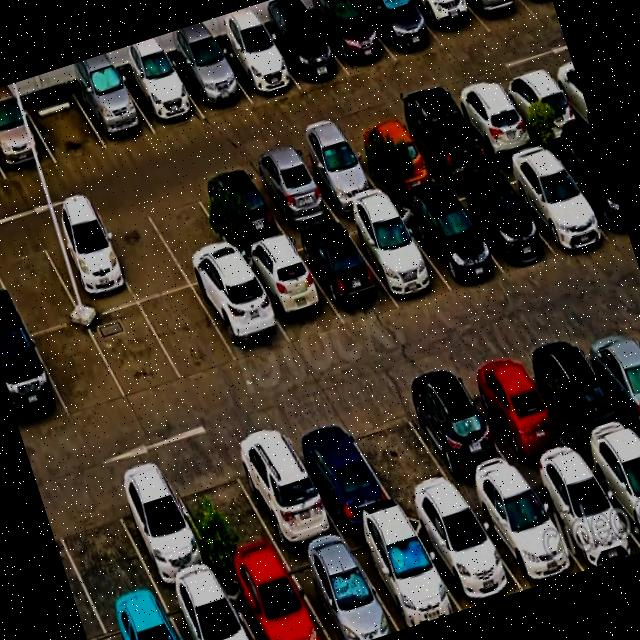empty: (164, 449, 283, 576), (45, 483, 158, 616), (339, 393, 462, 513), (142, 185, 242, 286), (94, 204, 190, 303), (86, 303, 183, 400), (140, 287, 238, 381), (32, 321, 126, 418), (0, 236, 82, 335), (24, 90, 107, 164)
occupied: (395, 370, 523, 498), (224, 424, 343, 555), (456, 351, 579, 477), (104, 465, 220, 594), (282, 411, 400, 535), (524, 331, 640, 455), (346, 518, 461, 631), (467, 479, 584, 590), (525, 460, 640, 570), (407, 501, 523, 610), (282, 540, 399, 640), (497, 151, 610, 254), (240, 240, 344, 346), (394, 192, 505, 291), (444, 174, 554, 273), (292, 223, 398, 325), (343, 208, 452, 305), (38, 219, 138, 319), (221, 558, 329, 640), (194, 272, 291, 362), (548, 136, 629, 240), (395, 101, 494, 185), (193, 168, 287, 254), (573, 317, 640, 434), (246, 152, 338, 234), (293, 137, 386, 216), (345, 119, 439, 197), (0, 333, 70, 435), (450, 83, 541, 161), (498, 68, 587, 144), (310, 0, 396, 76), (263, 16, 349, 89), (72, 76, 156, 149), (119, 63, 205, 134), (583, 437, 640, 542), (216, 35, 300, 103), (162, 578, 254, 640), (172, 49, 251, 118), (356, 0, 444, 61), (0, 105, 56, 180), (408, 0, 491, 49), (100, 597, 182, 640), (465, 0, 537, 32)
